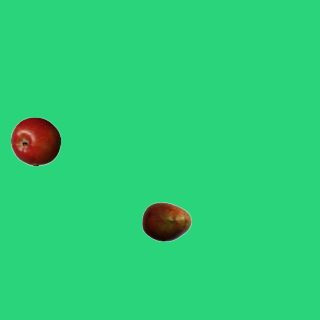Apple Braeburn: (10, 116, 60, 166)
Mango Red: (141, 196, 191, 246)
